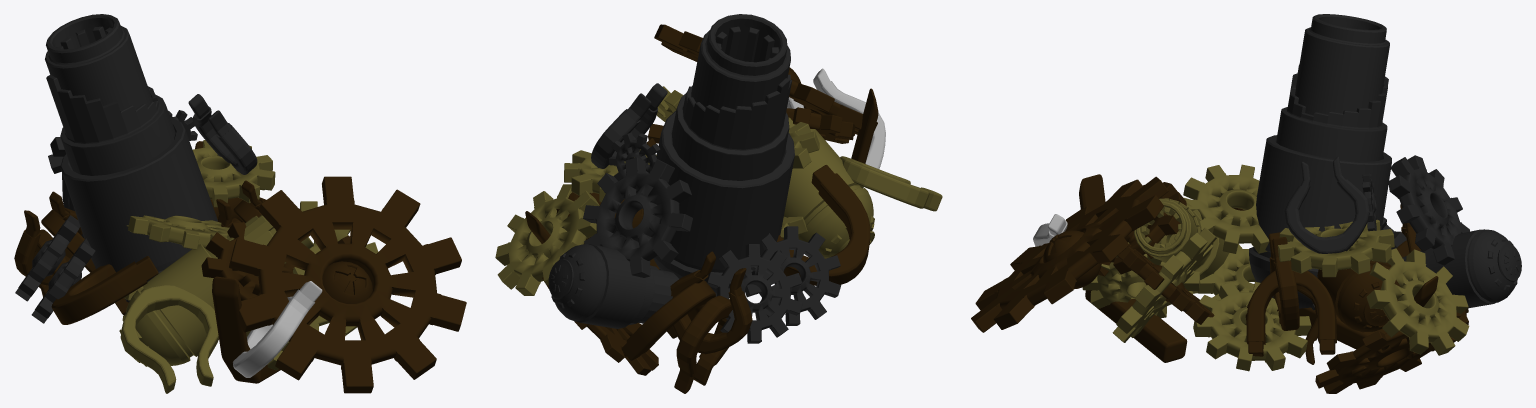
Rendered from decors2.fbx.
3 views of the same model, side by side, from view 1: azimuth 30°, elevation 25°; view 2: azimuth 150°, elevation 25°; view 3: azimuth 270°, elevation 25° (orthographic). The views are drawn at different scales.
Visible parts, largest first — view 1: Engrenage_1_test:Engrenage3, Canon, Engrenage_1_test:Canon, aimant01project2019:pCube3, aimant01project2019:pCube7, aimant01project2019:pCube1, Engrenage_1_test:Engrenage29, pCube8, pCube10, Engrenage_1_test:Engrenage19, Engrenage_1_test:Engrenage23, Engrenage_1_test:Engrenage7 (+7 smaller); view 2: Canon, Engrenage_1_test:Engrenage28, Canon2, Engrenage_1_test:Engrenage22, Engrenage_1_test:Engrenage7, Engrenage_1_test:Canon, Engrenage_1_test:Engrenage6, aimant01project2019:pCube7, pCube11, aimant01project2019:pCube2, aimant01project2019:pCube4, Engrenage_1_test:Engrenage3 (+11 smaller); view 3: Canon, Engrenage_1_test:Engrenage3, Engrenage_1_test:Engrenage22, Engrenage_1_test:Engrenage24, Engrenage_1_test:Engrenage28, Canon2, Engrenage_1_test:Engrenage19, Engrenage_1_test:Engrenage11, Engrenage_1_test:Engrenage29, pCube4, Engrenage_1_test:Engrenage2, pCube10 (+13 smaller).
Part boxes in pixels (box(x1,y1,x2,y2)): Engrenage_1_test:Engrenage3: box(229, 176, 466, 393); Canon: box(45, 14, 217, 302); Engrenage_1_test:Canon: box(119, 215, 313, 366); aimant01project2019:pCube3: box(120, 285, 218, 393); aimant01project2019:pCube7: box(51, 256, 158, 324); aimant01project2019:pCube1: box(233, 281, 322, 377); Engrenage_1_test:Engrenage29: box(192, 140, 275, 207); pCube8: box(212, 276, 280, 383); pCube10: box(188, 94, 257, 174); Engrenage_1_test:Engrenage19: box(126, 215, 229, 249); Engrenage_1_test:Engrenage23: box(201, 222, 298, 324); Engrenage_1_test:Engrenage7: box(15, 215, 80, 301); Canon: box(652, 14, 794, 296); Engrenage_1_test:Engrenage28: box(583, 157, 692, 277); Canon2: box(548, 244, 678, 328); Engrenage_1_test:Engrenage22: box(495, 184, 599, 295); Engrenage_1_test:Engrenage7: box(705, 244, 802, 343); Engrenage_1_test:Canon: box(783, 117, 874, 258); Engrenage_1_test:Engrenage6: box(745, 226, 841, 325); aimant01project2019:pCube7: box(777, 165, 870, 285); pCube11: box(674, 295, 732, 393); aimant01project2019:pCube2: box(670, 251, 752, 354); aimant01project2019:pCube4: box(621, 280, 715, 360); Engrenage_1_test:Engrenage3: box(654, 24, 877, 135); Canon: box(1249, 14, 1391, 310); Engrenage_1_test:Engrenage3: box(971, 176, 1168, 332); Engrenage_1_test:Engrenage22: box(1366, 248, 1469, 355); Engrenage_1_test:Engrenage24: box(1193, 282, 1311, 371); Engrenage_1_test:Engrenage28: box(1388, 155, 1469, 265); Canon2: box(1402, 229, 1521, 308); Engrenage_1_test:Engrenage19: box(1183, 164, 1269, 253); Engrenage_1_test:Engrenage11: box(1315, 312, 1468, 393); Engrenage_1_test:Engrenage29: box(1277, 219, 1394, 277); pCube4: box(1246, 270, 1336, 356); Engrenage_1_test:Engrenage2: box(1112, 227, 1216, 342); pCube10: box(1284, 156, 1369, 253).
Size of the model in its own units: 46.49 by 51.57 by 76.87.
